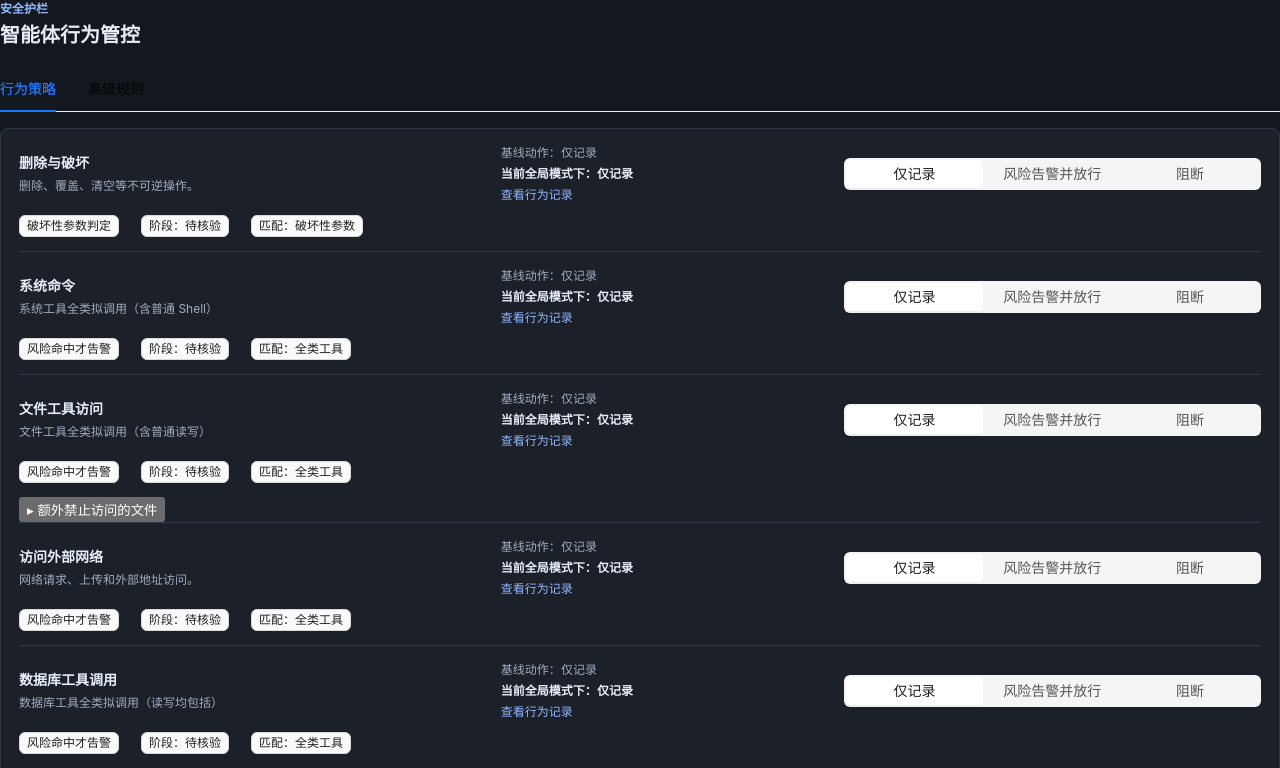
Scenario: AgentBehaviorControl › 只重试失败的行为
Later steps or results of the test are not shown.
Click the radio button labelled "风险告警并放行" in the row of "网络请求、上传和外部地址访问。": (1052, 567) x1=1003 y1=559 x2=1101 y2=576
(page scrolled)
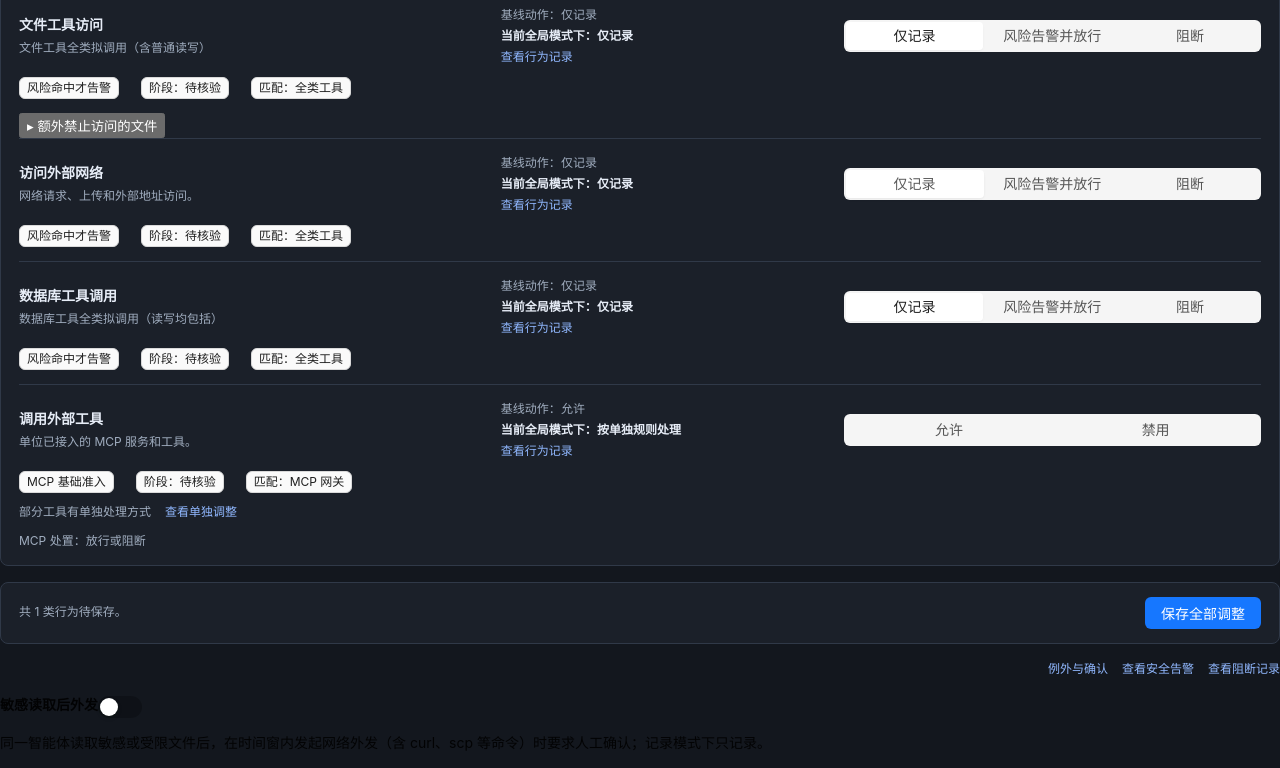
Click the button "保存全部调整": (1203, 612) x1=1145 y1=596 x2=1261 y2=628
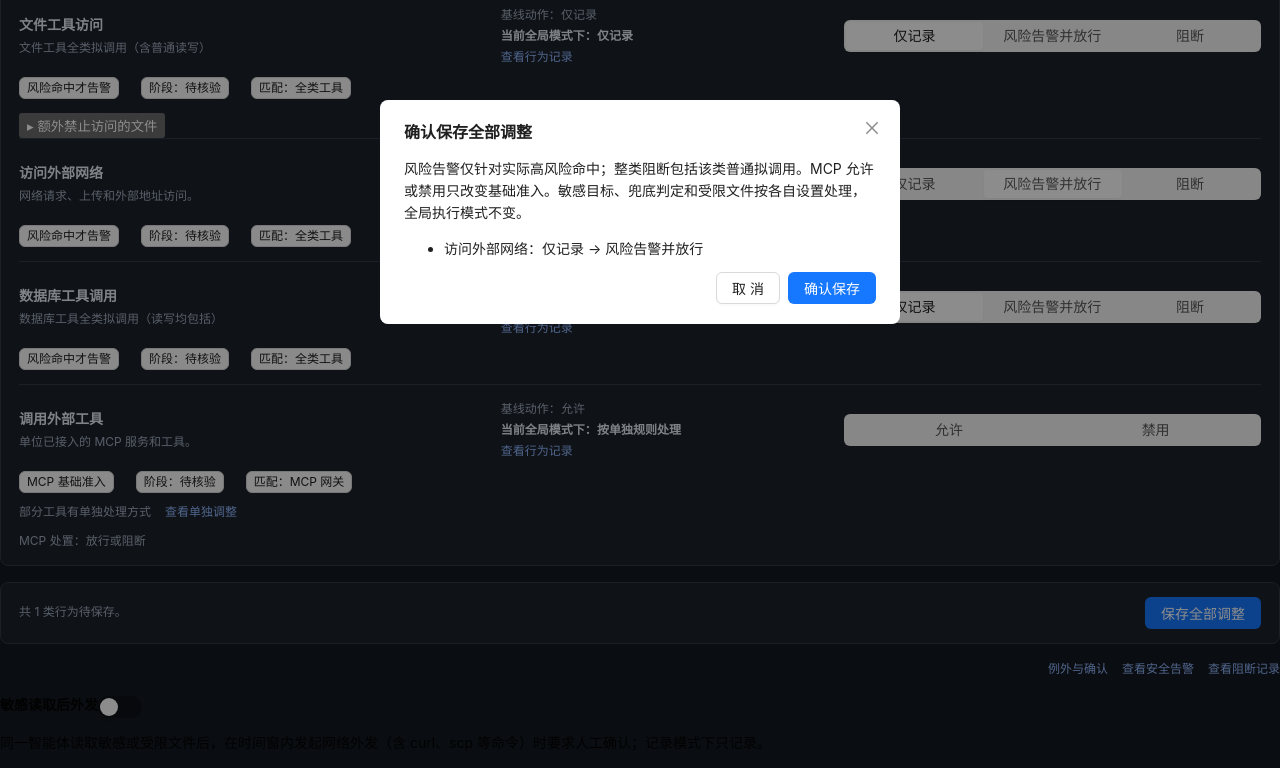
Click the button "确认保存": (832, 288) x1=788 y1=272 x2=876 y2=304
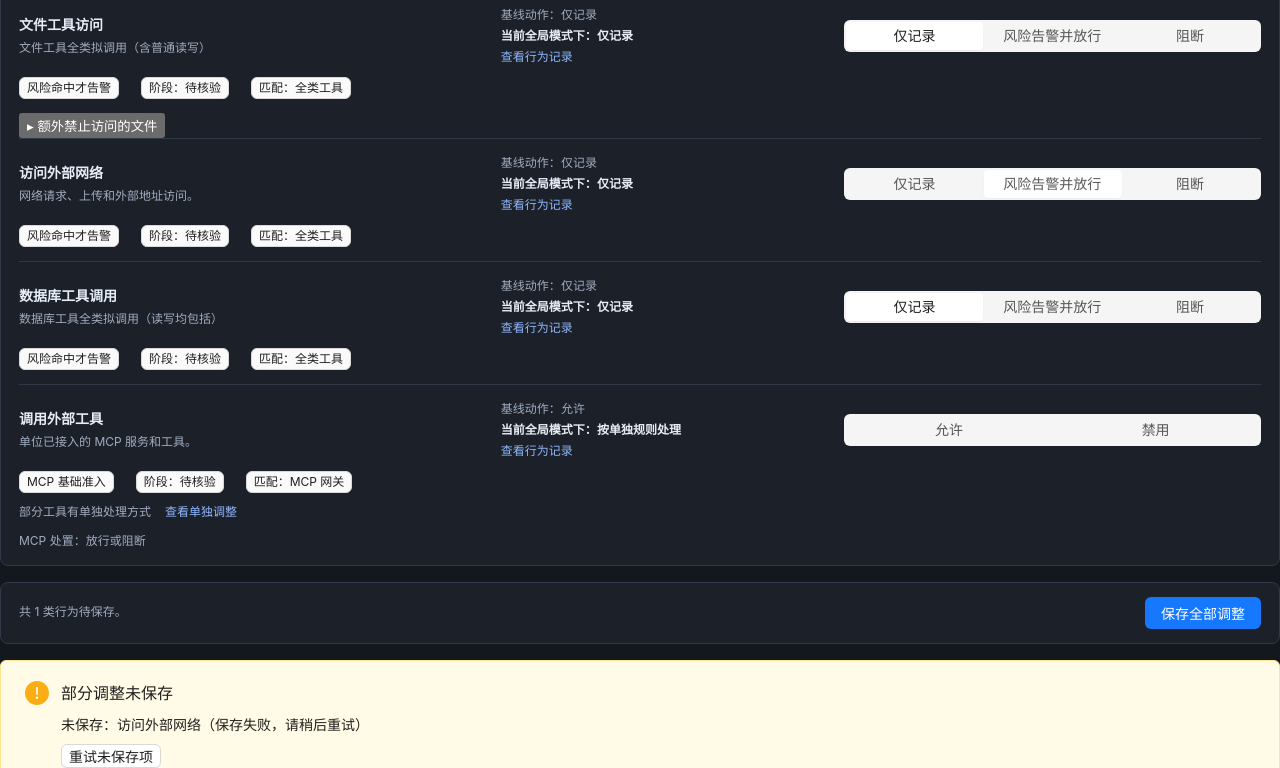
Check: the text "部分调整未保存" is shown, box x1=61 y1=682 x2=173 y2=702
